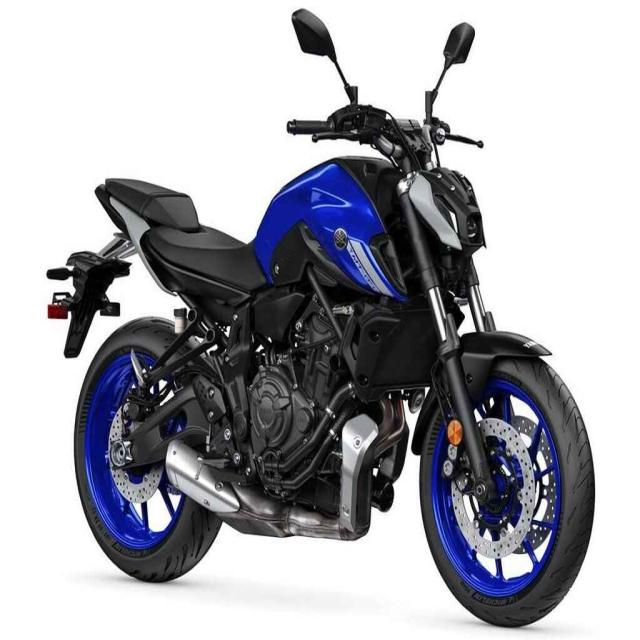bike: (45, 7, 595, 629)
